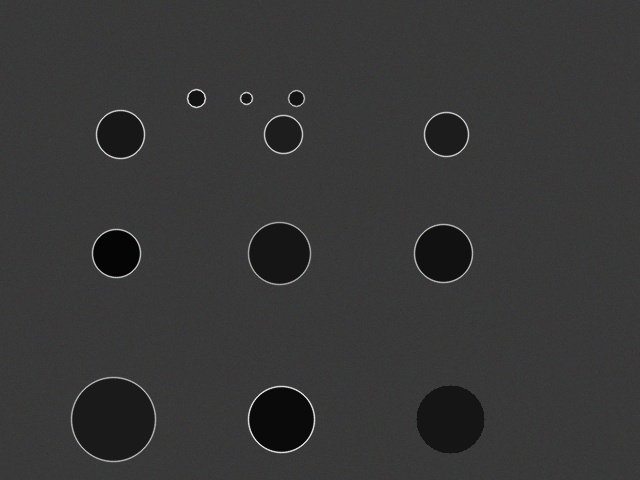hole: (71, 377, 155, 461), (416, 385, 484, 453), (248, 386, 314, 452), (248, 222, 310, 284), (414, 224, 472, 282), (96, 110, 144, 158), (92, 229, 140, 277), (424, 112, 468, 156), (264, 115, 302, 153), (187, 89, 205, 107), (288, 90, 304, 106), (240, 92, 252, 104)
